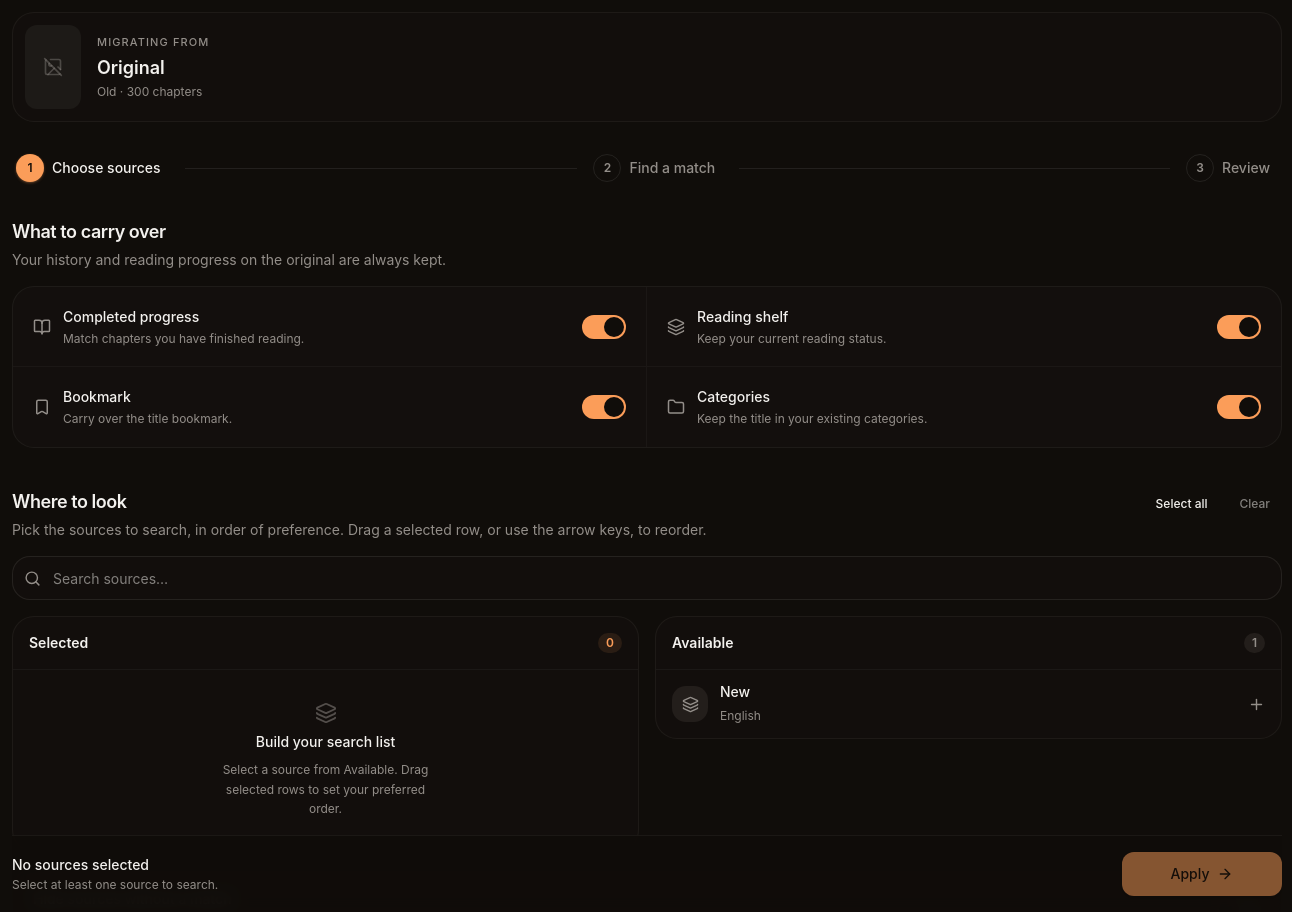
Test: migration lifecycle › copies only the replacement’s 160 chapters and then deletes only original downloads and removes original membership
Click the button with aria-label "Select New": x=690, y=704 [656, 670, 1281, 738]
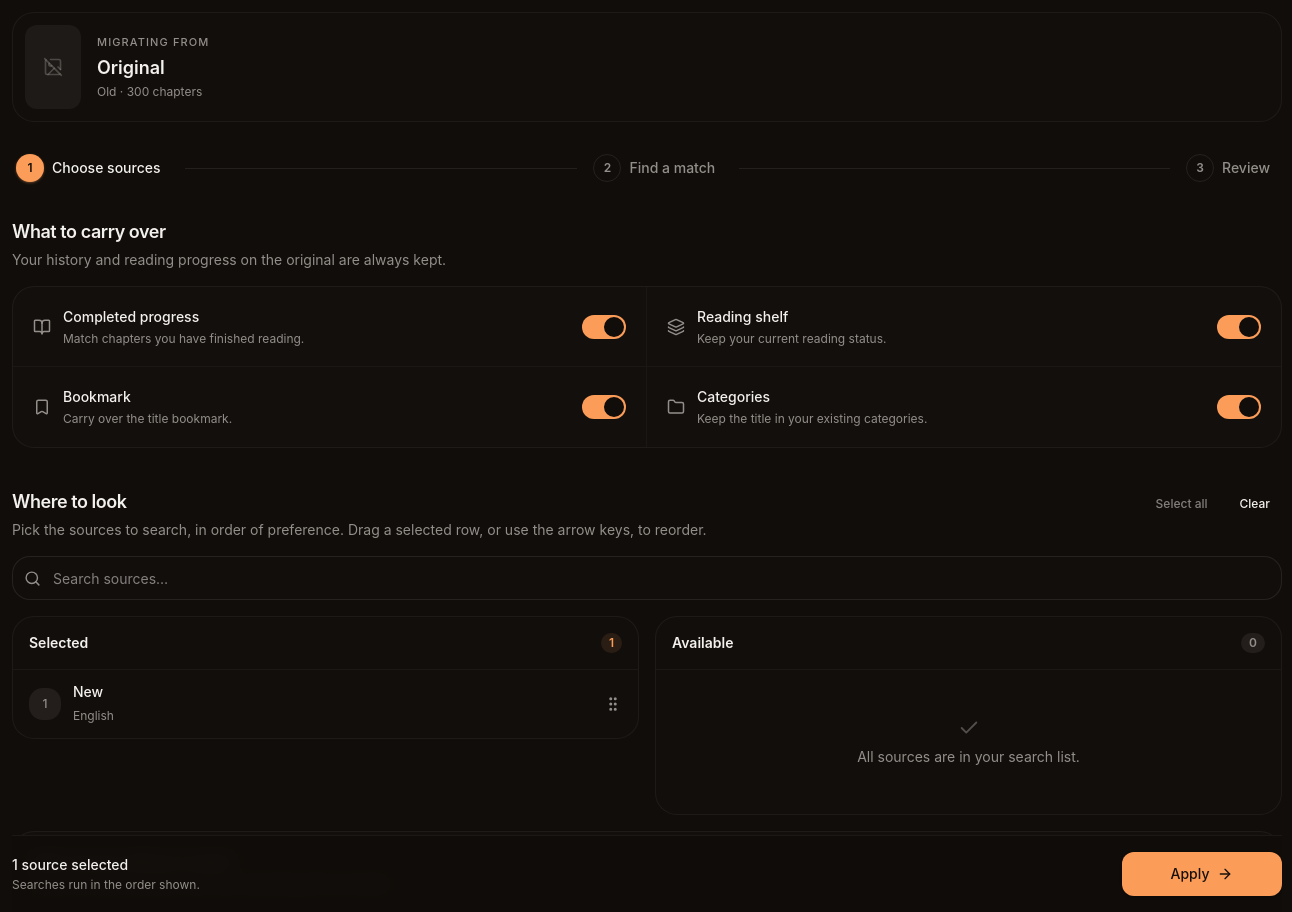
Click the button "Apply": x=1202, y=874 [1122, 852, 1282, 896]
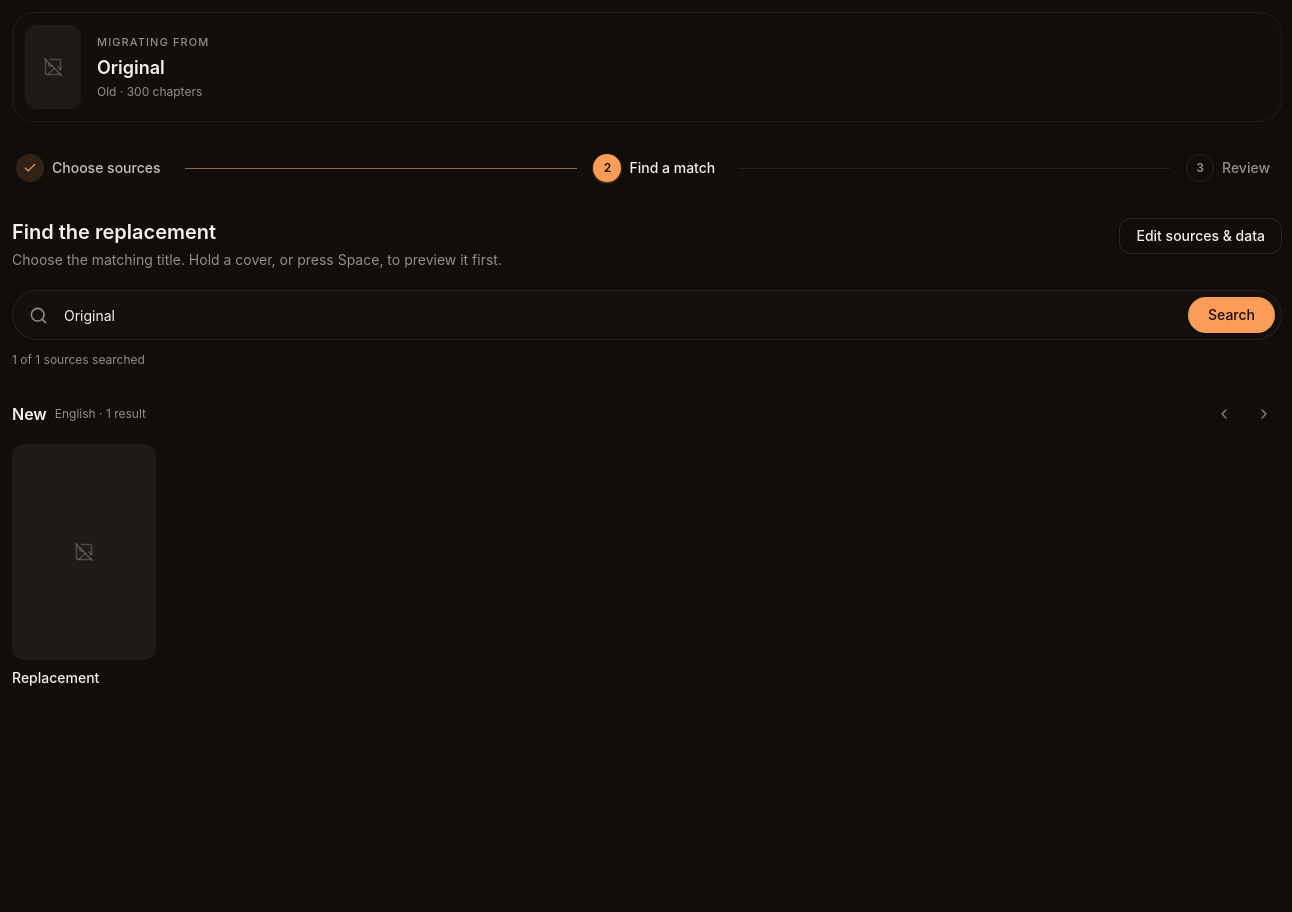
Click the button with aria-label "Select Replacement from New": x=84, y=566 [12, 444, 156, 688]
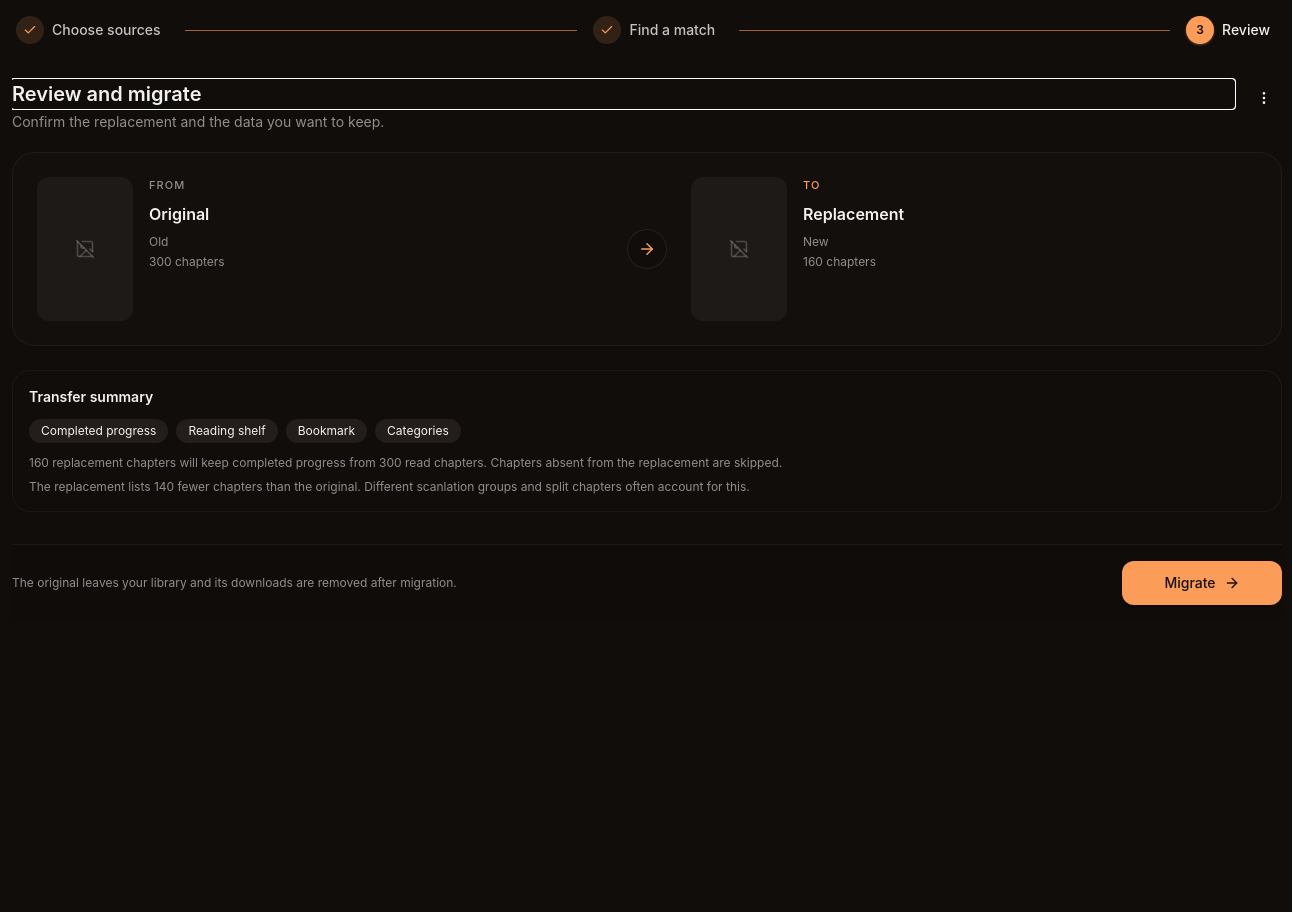
Expected: the button "Migrate" is shown
Click the button "Migrate": x=1202, y=583 [1122, 561, 1282, 605]
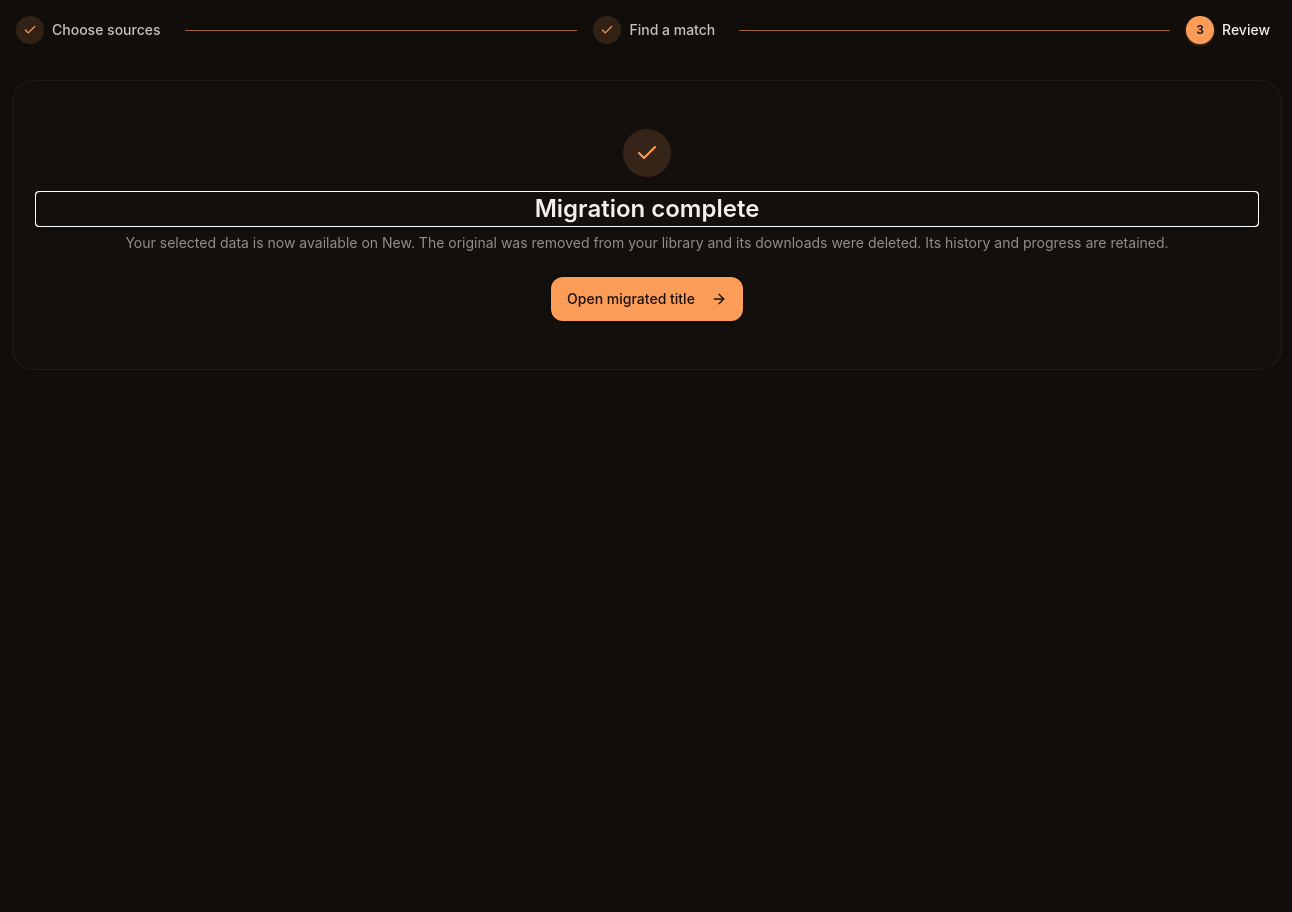
Expected: the heading "Migration complete" is shown, [535, 194, 759, 223]
